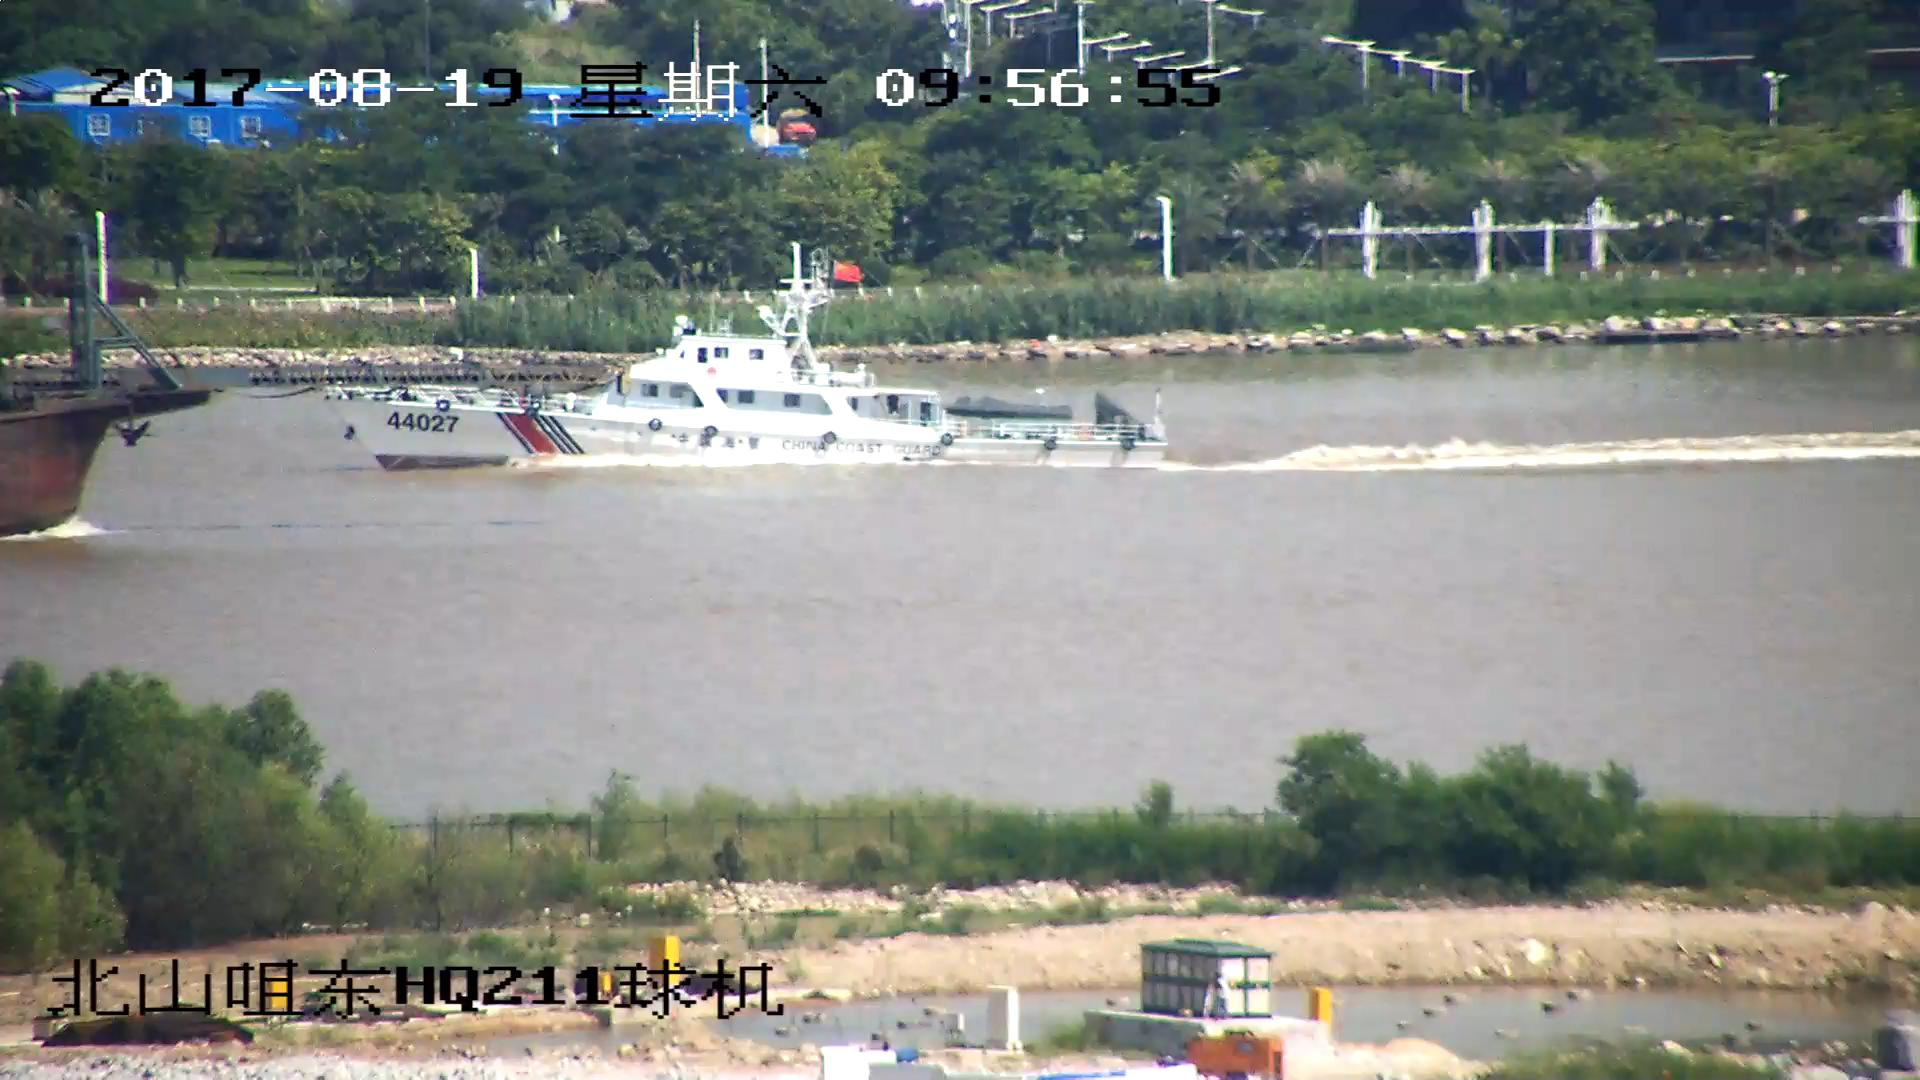passenger ship: (334, 250, 1166, 474)
